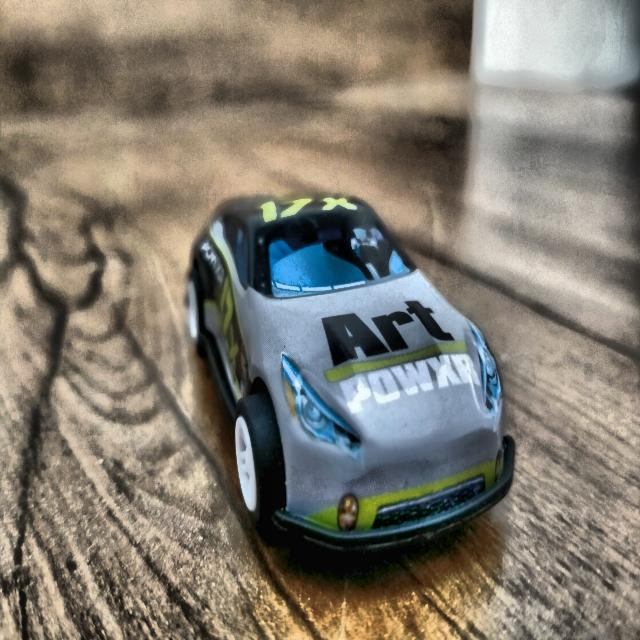Car: (190, 189, 518, 547)
